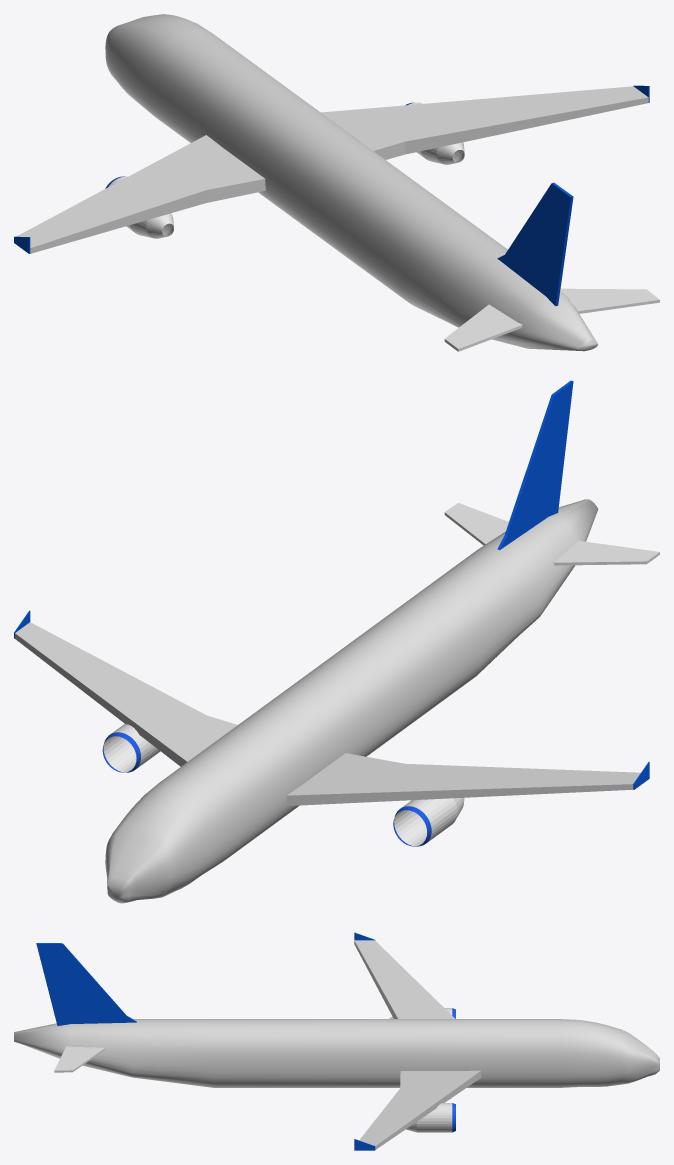
The model's file is Airliner.fbx.
3 renders of one model, top to bottom at view 1: azimuth 30°, elevation 25°; view 2: azimuth 150°, elevation 25°; view 3: azimuth 270°, elevation 25°, orthographic. The views are drawn at different scales.
Parts seen in each view (by area): view 1: Airliner, Wings, VerticalWing, TailWing, TurboLeft, TurboRight; view 2: Airliner, Wings, VerticalWing, TailWing, TurboLeft, TurboRight; view 3: Airliner, Wings, VerticalWing, TurboRight, TailWing.
Boxes of the visible parts, box(x1,y1,x2,y2) form: Airliner: box(105, 14, 598, 351); Wings: box(16, 86, 648, 253); VerticalWing: box(497, 182, 573, 306); TailWing: box(444, 288, 659, 351); TurboLeft: box(105, 176, 173, 238); TurboRight: box(405, 102, 464, 164); Airliner: box(105, 499, 597, 903); Wings: box(15, 622, 640, 805); VerticalWing: box(497, 380, 573, 550); TailWing: box(444, 503, 659, 565); TurboLeft: box(393, 797, 464, 846); TurboRight: box(102, 724, 160, 772); Airliner: box(14, 1019, 659, 1087); Wings: box(354, 940, 481, 1149); VerticalWing: box(36, 943, 136, 1025); TurboRight: box(406, 1103, 455, 1132); TailWing: box(54, 1046, 105, 1072).
Size of the model in its own units: 11526 by 15224 by 3673.
